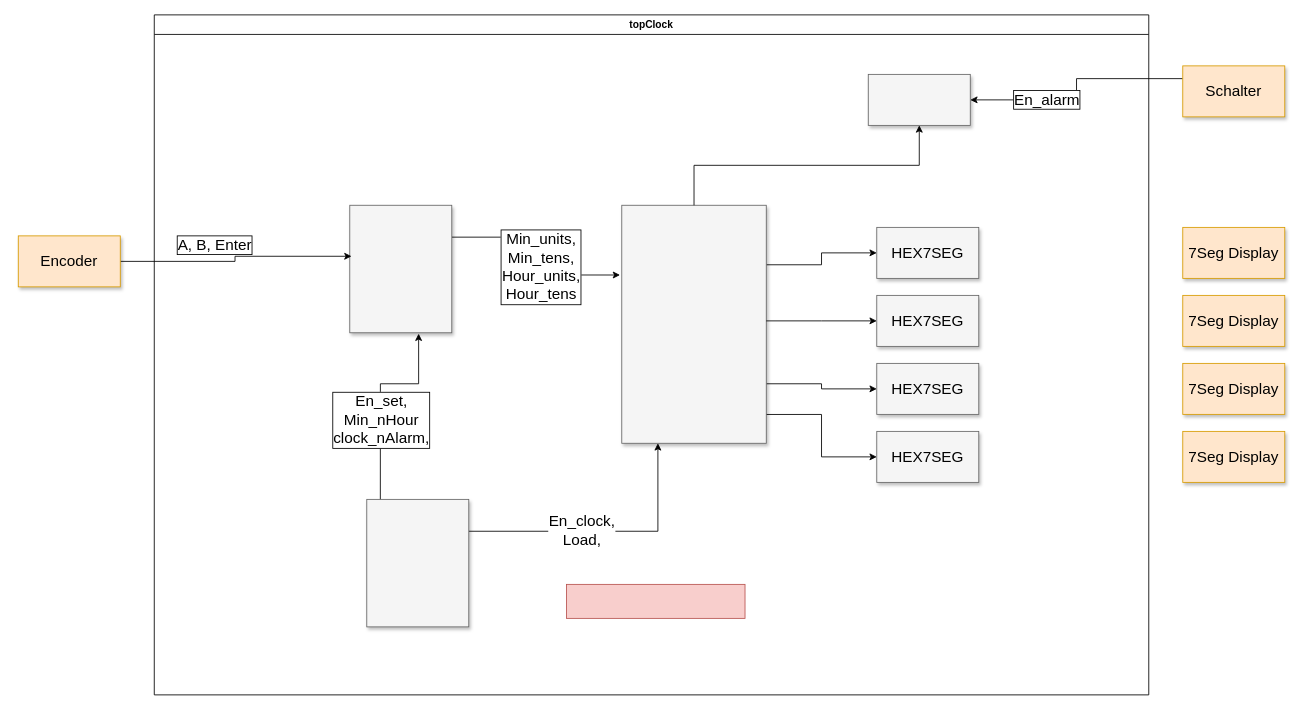
Image size: 1305x710. Some labels were removed from this diagram. Each missing label, with the centre of its shape:
"Alarm" belongs at point (919, 100).
"coreClock_alarm" belongs at point (694, 325).
"En_set <= not En_clock" belongs at point (655, 601).
"Incremental Encoder top level with 2 timer" belongs at point (401, 270).
"UI" belongs at point (418, 564).
